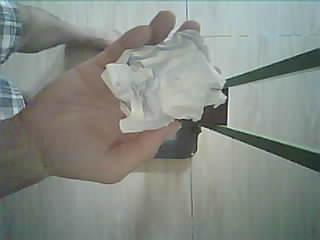paper: (101, 21, 226, 133)
